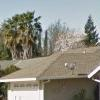Tree: (5, 8, 56, 52)
